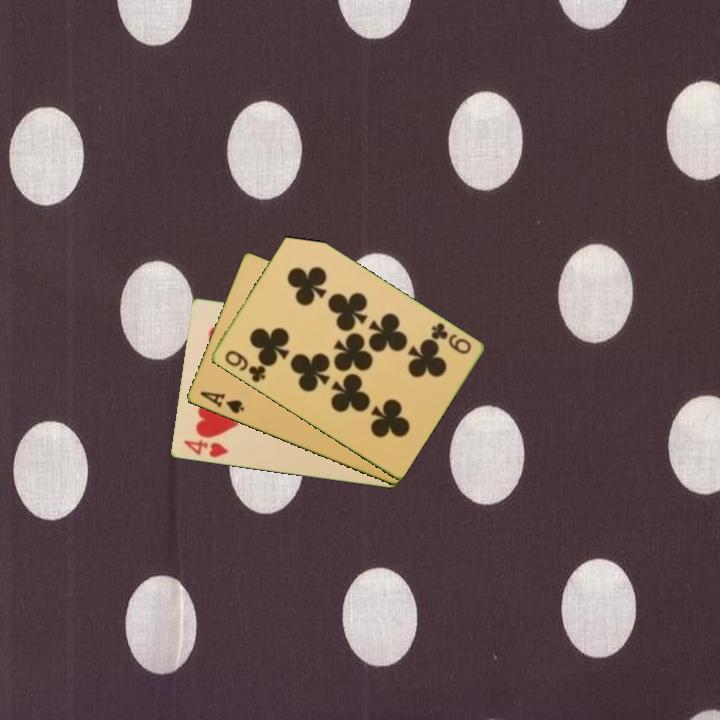4h: (179, 436, 231, 461)
9c: (221, 347, 268, 385), (427, 319, 474, 357)
As: (196, 388, 247, 417)
